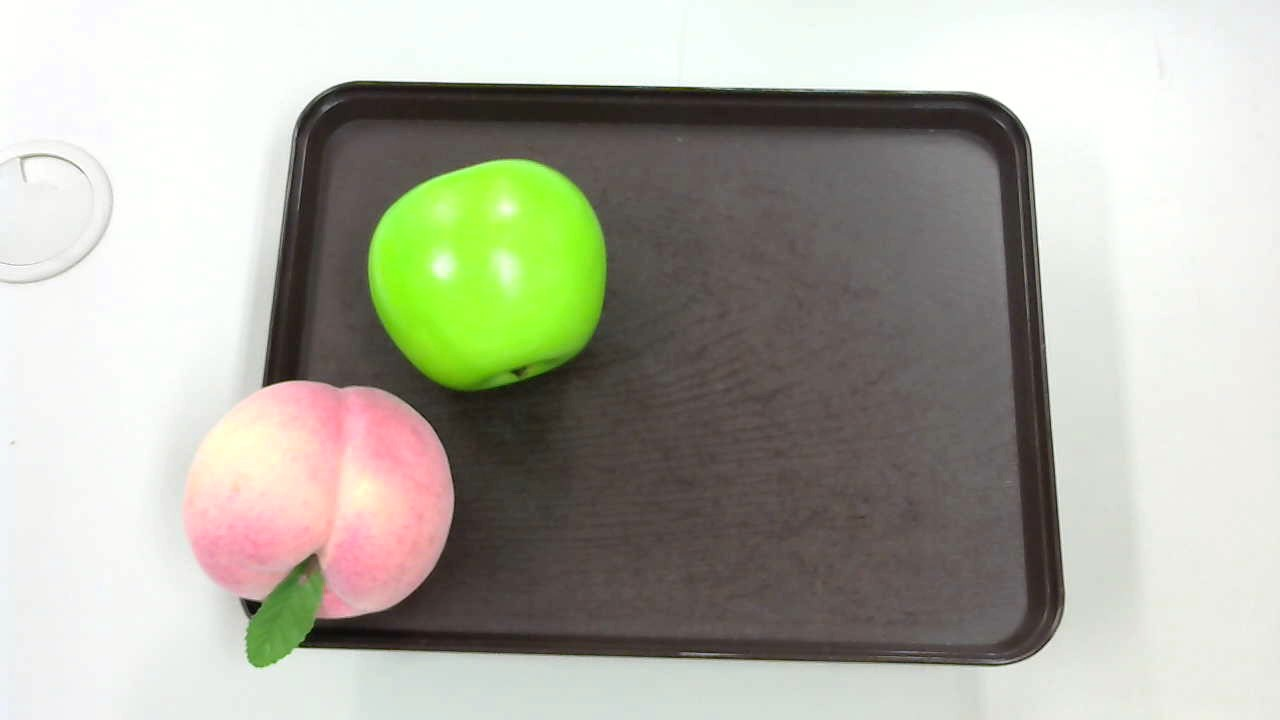green apple: (366, 160, 610, 400)
peach: (186, 381, 454, 669)
